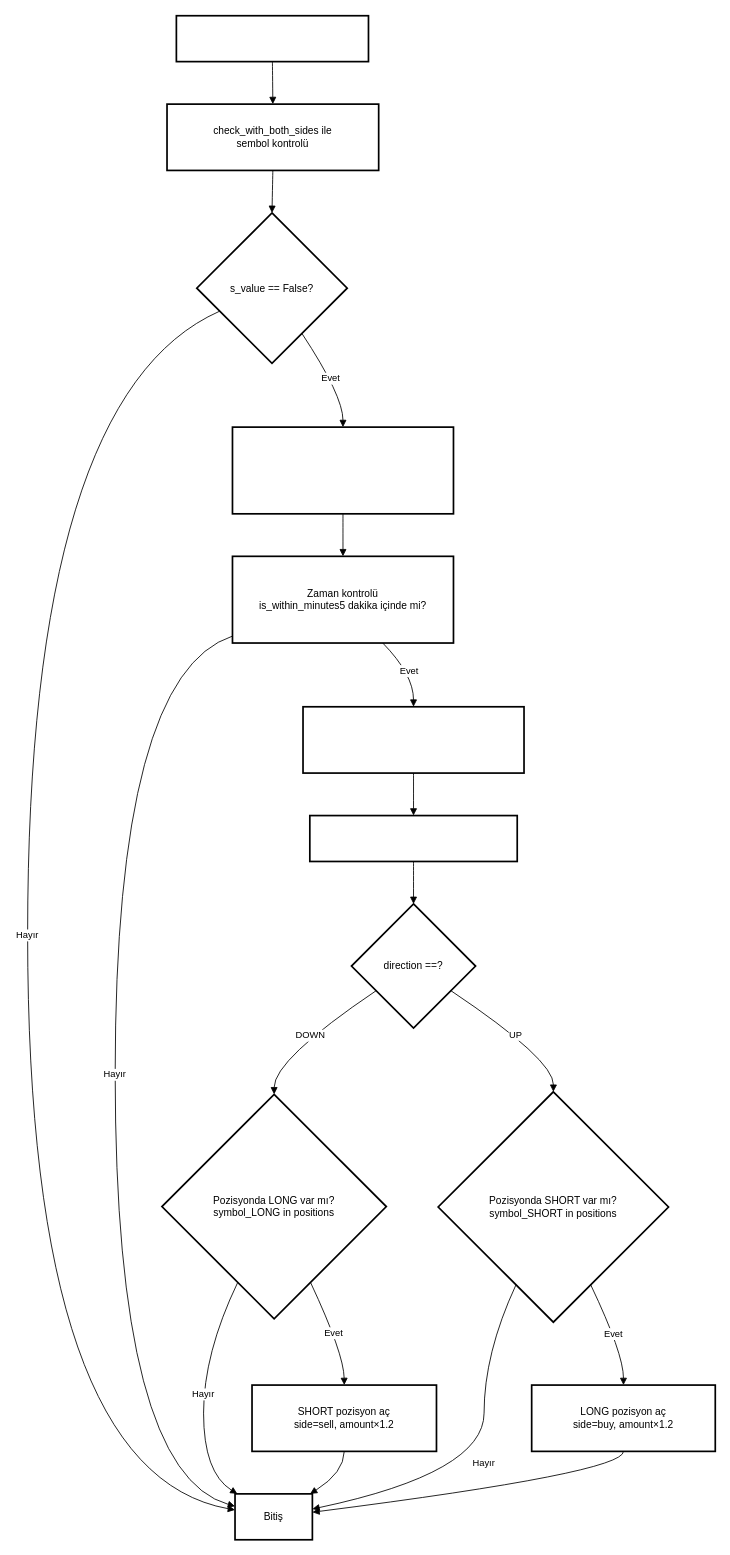
This 730x1555 diagram has some shape labels left out. Here are the shapes that lost their labels. From the top down, the centre of each, then its label:
the point at 272,38: Başla: main fonksiyonu
the point at 342,470: Breakout verisini getir symbol, timestamp, direction
the point at 413,740: Açık pozisyon miktarını getir
the point at 413,838: Mevcut pozisyonları getir
